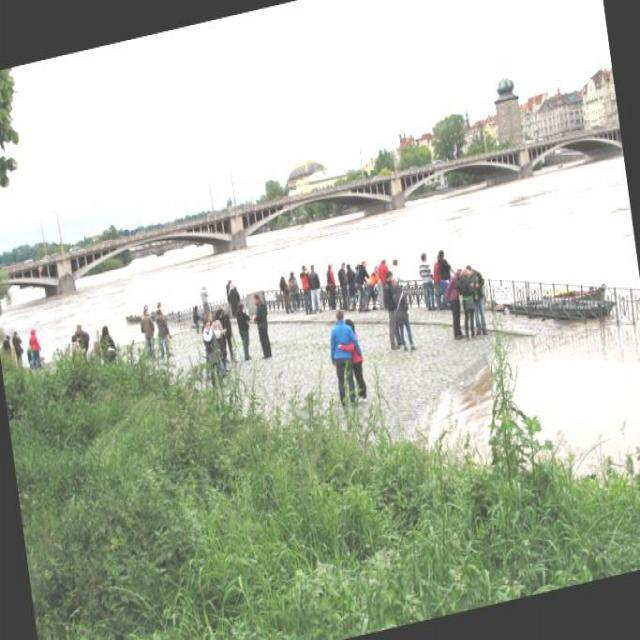flood: (0, 129, 639, 618)
